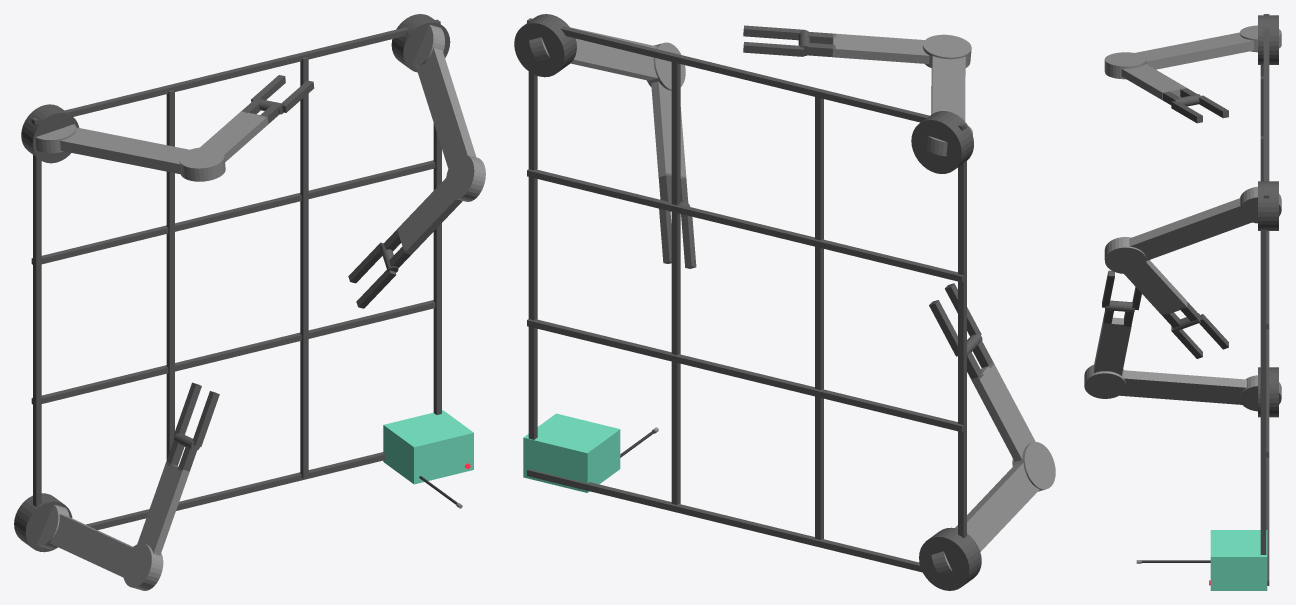
The model's file is pad.glb.
The picture shows the model from 3 angles, left to right: view 1: azimuth 30°, elevation 25°; view 2: azimuth 150°, elevation 25°; view 3: azimuth 270°, elevation 25°; orthographic projection. The views are drawn at different scales.
Visible parts, largest first — view 1: Cylinder.004, Cylinder, Cylinder.007, Cube, Cube.006, Cube.001, Cube.003, Cube.004, Cube.008, Cube.007, Cube.002, Cube.005 (+3 smaller); view 2: Cylinder, Cylinder.007, Cylinder.004, Cube, Cube.003, Cube.001, Cube.006, Cube.007, Cube.002, Cube.004, Cube.005, Cube.008 (+3 smaller); view 3: Cylinder.004, Cylinder, Cylinder.007, Cube, Cube.005, Cube.004, Cylinder.003, Cylinder.002, Cylinder.001, Cube.001, Cube.002, Cube.003.
Boxes of the visible parts, <box> form: Cylinder.004: <box>348,25,485,308</box>; Cylinder: <box>37,382,219,590</box>; Cylinder.007: <box>35,75,314,181</box>; Cube: <box>383,410,473,484</box>; Cube.006: <box>300,57,308,478</box>; Cube.001: <box>31,300,435,405</box>; Cube.003: <box>31,160,435,265</box>; Cube.004: <box>31,19,440,124</box>; Cube.008: <box>33,123,41,506</box>; Cube.007: <box>166,89,174,459</box>; Cube.002: <box>86,452,385,530</box>; Cube.005: <box>433,123,441,414</box>; Cylinder: <box>929,283,1055,575</box>; Cylinder.007: <box>743,25,972,156</box>; Cylinder.004: <box>529,27,696,268</box>; Cube: <box>523,413,620,492</box>; Cube.003: <box>527,169,965,282</box>; Cube.001: <box>527,319,965,432</box>; Cube.006: <box>671,62,680,504</box>; Cube.007: <box>815,97,823,539</box>; Cube.002: <box>527,469,922,572</box>; Cube.004: <box>527,18,965,131</box>; Cube.005: <box>528,71,537,439</box>; Cube.008: <box>958,126,966,538</box>; Cylinder.004: <box>1104,186,1281,358</box>; Cylinder: <box>1084,270,1281,411</box>; Cylinder.007: <box>1104,25,1281,123</box>; Cube: <box>1210,530,1267,590</box>; Cube.005: <box>1260,229,1266,554</box>; Cube.004: <box>1263,14,1269,198</box>; Cylinder.003: <box>1258,181,1278,230</box>; Cylinder.002: <box>1258,15,1278,64</box>; Cylinder.001: <box>1258,367,1278,417</box>; Cube.001: <box>1263,329,1269,457</box>; Cube.002: <box>1266,457,1269,585</box>; Cube.003: <box>1263,231,1269,329</box>.
Bounding box in the file's own units: 3.18 × 3.13 × 1.39.
